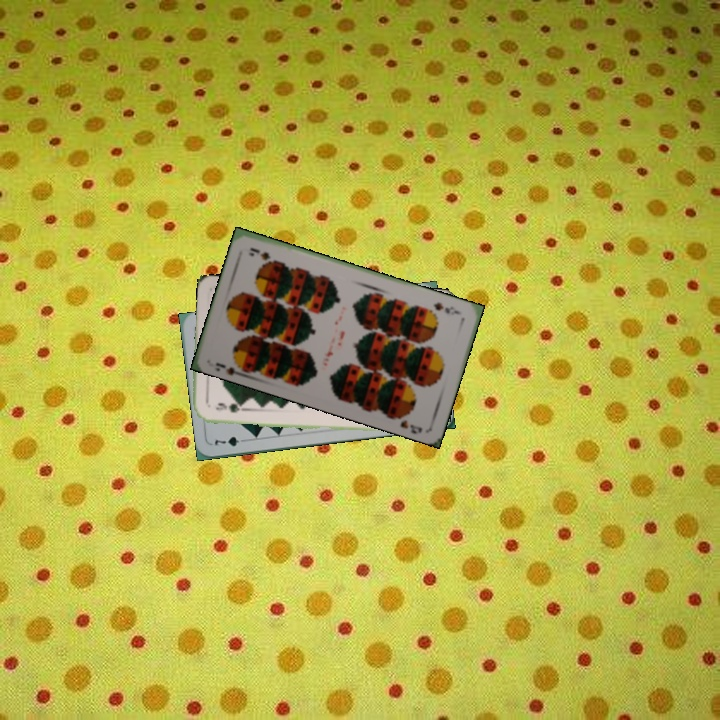G7: (210, 432, 250, 449)
G9: (212, 400, 244, 415)
S9: (211, 358, 248, 380), (429, 298, 464, 318)
